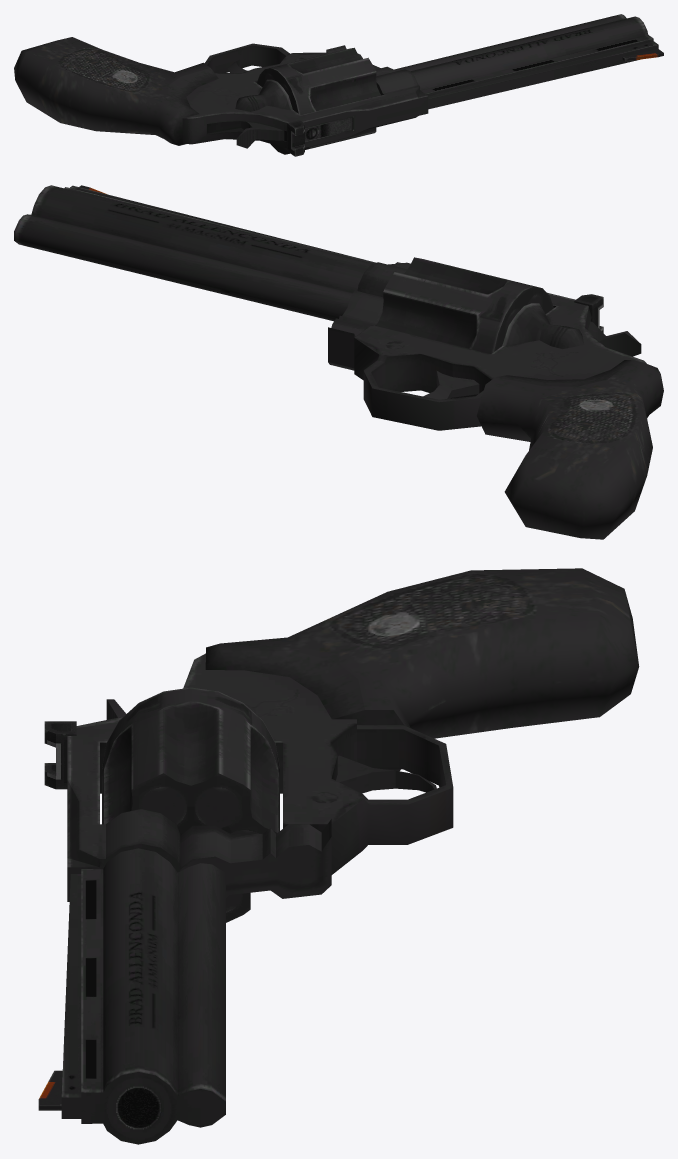
Rendered from weapon_colt_anaconda_LOD0.obj.
3 renders of one model, top to bottom at view 1: azimuth 30°, elevation 25°; view 2: azimuth 150°, elevation 25°; view 3: azimuth 270°, elevation 25°, orthographic. The views are drawn at different scales.
Parts seen in each view (by area): view 1: mtl_weapon_colt_anaconda_44; view 2: mtl_weapon_colt_anaconda_44; view 3: mtl_weapon_colt_anaconda_44.
Part boxes in pixels (x1,y1,x2,y2): mtl_weapon_colt_anaconda_44: [14, 14, 663, 156]; mtl_weapon_colt_anaconda_44: [14, 185, 663, 539]; mtl_weapon_colt_anaconda_44: [38, 568, 639, 1144].
Bounding box in the file's own units: 39 × 5.84 × 19.73.
